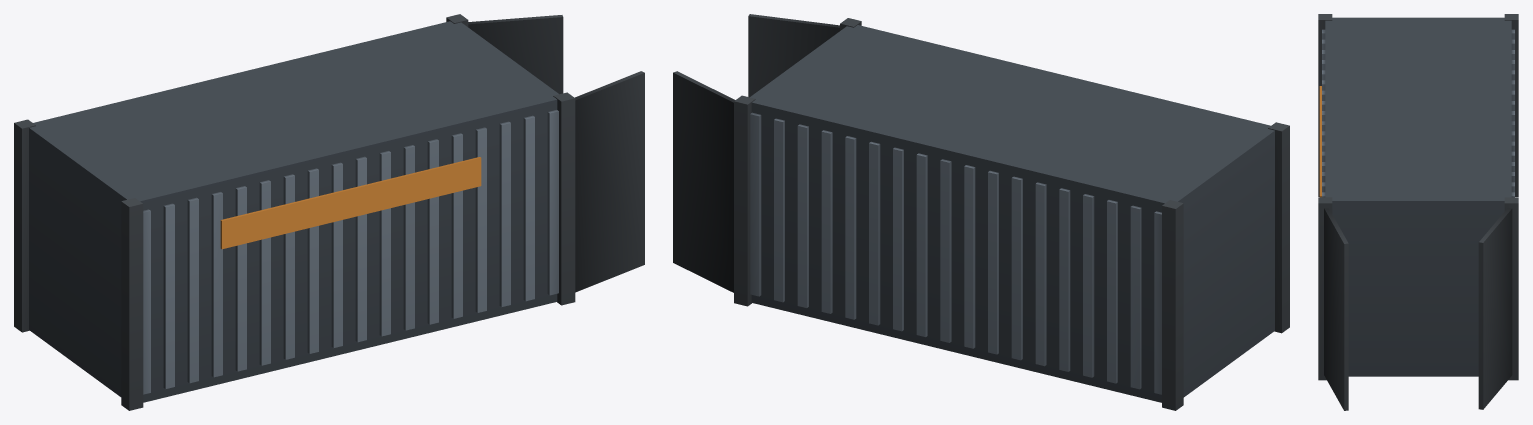
Rendered from obj_contenedor_2.glb.
3 renders of one model, left to right at view 1: azimuth 30°, elevation 25°; view 2: azimuth 150°, elevation 25°; view 3: azimuth 270°, elevation 25°, orthographic. The views are drawn at different scales.
Visible parts, largest first — view 1: propforge-cuartos-contenedor; view 2: propforge-cuartos-contenedor; view 3: propforge-cuartos-contenedor.
Part boxes in pixels (x1,y1,x2,y2): propforge-cuartos-contenedor: (14, 14, 644, 410); propforge-cuartos-contenedor: (673, 14, 1289, 410); propforge-cuartos-contenedor: (1318, 14, 1518, 410).
Size of the model in its own units: 1.17 by 0.4284 by 0.4386.
